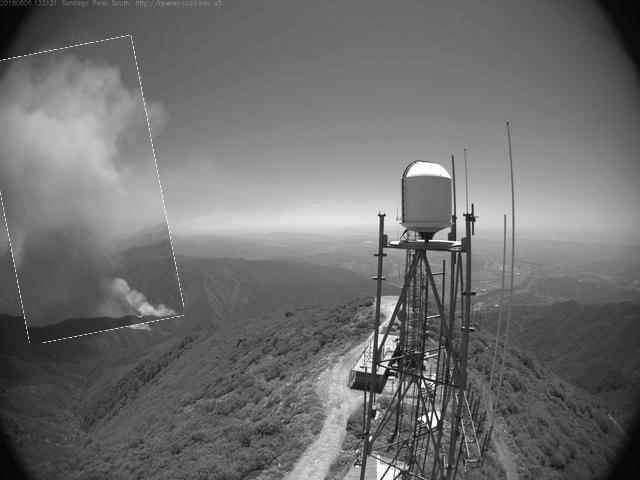smoke: (1, 42, 173, 340)
